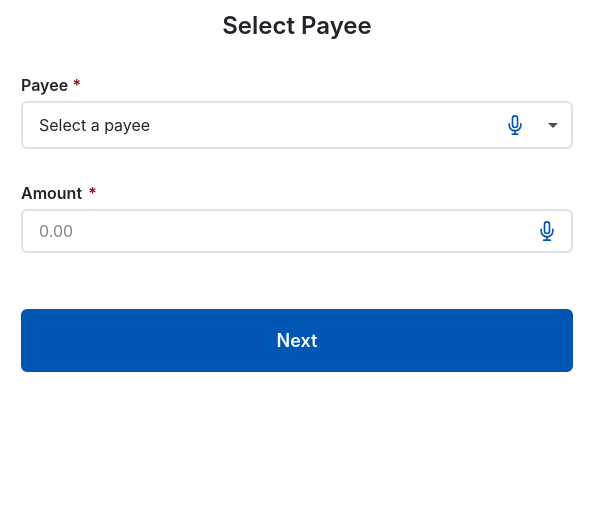
Test: PayeeSelection - Accessibility Tests › validates empty form submission
The image size is (595, 510).
Step 1. Click the button "Next" → (297, 340), box [21,309,573,372]
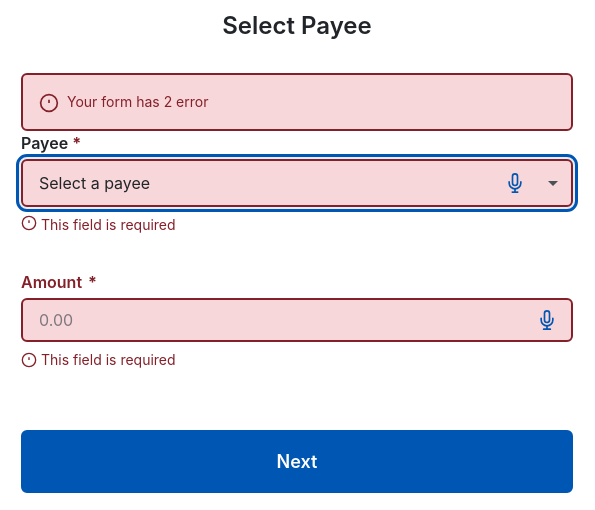
Now the text "This field is required" is shown, box [21,215,176,233]
